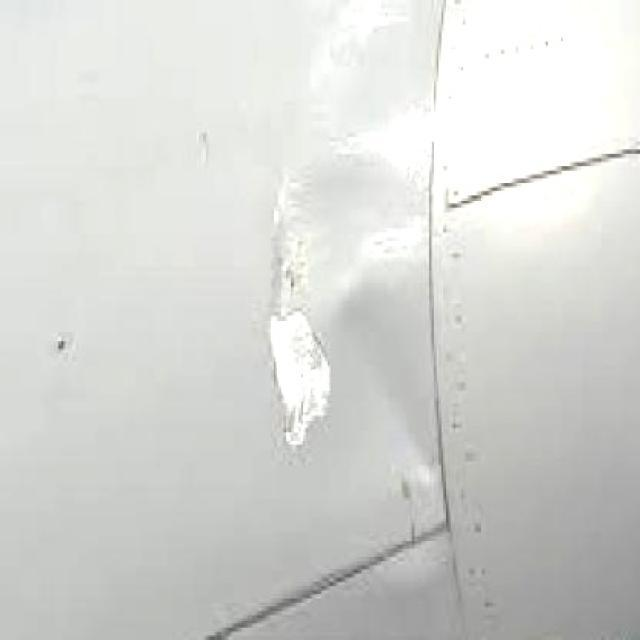dent: (334, 264, 440, 505), (266, 132, 334, 454), (297, 131, 416, 308)
